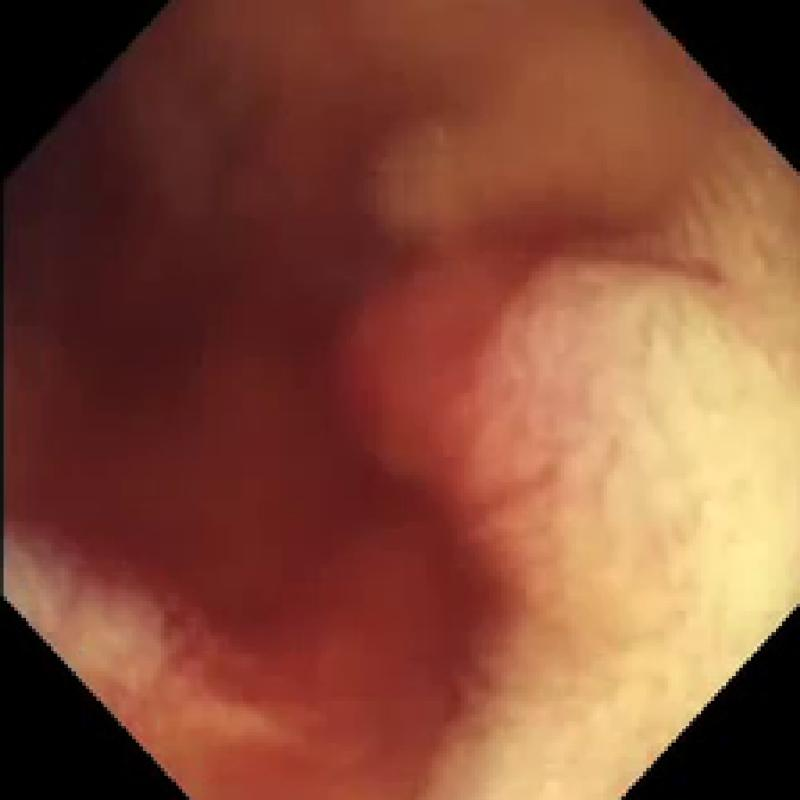bleeding: (4, 75, 639, 800)
